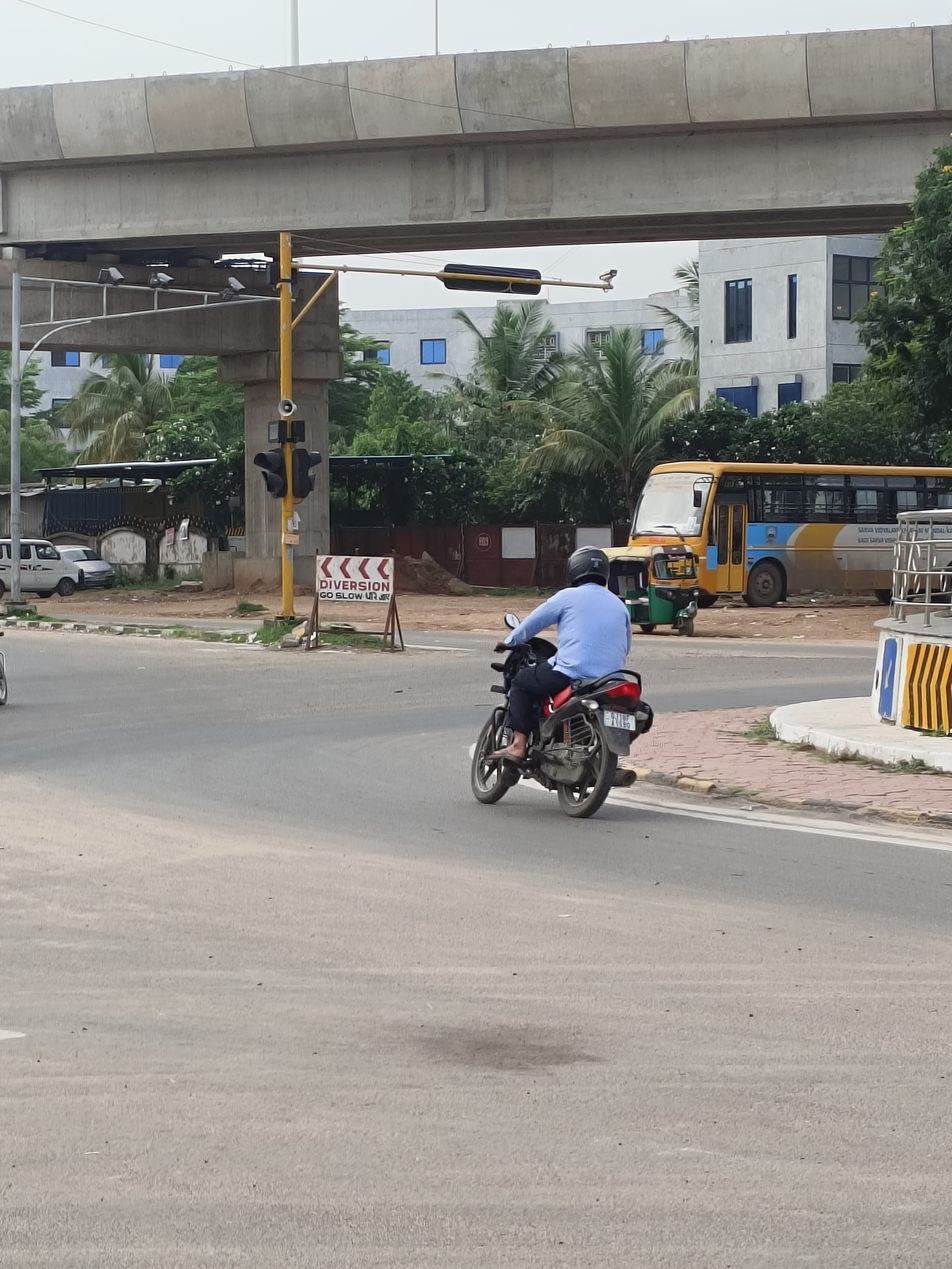BikeWithRider: (461, 537, 662, 833)
Helmet: (562, 538, 615, 592)
